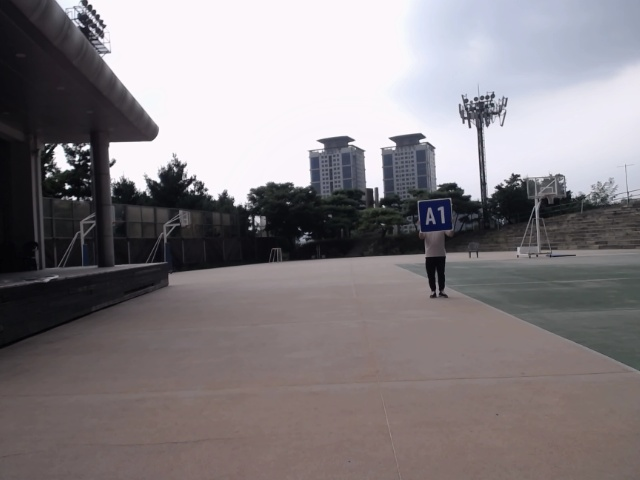delivery_a1: (418, 199, 453, 233)
